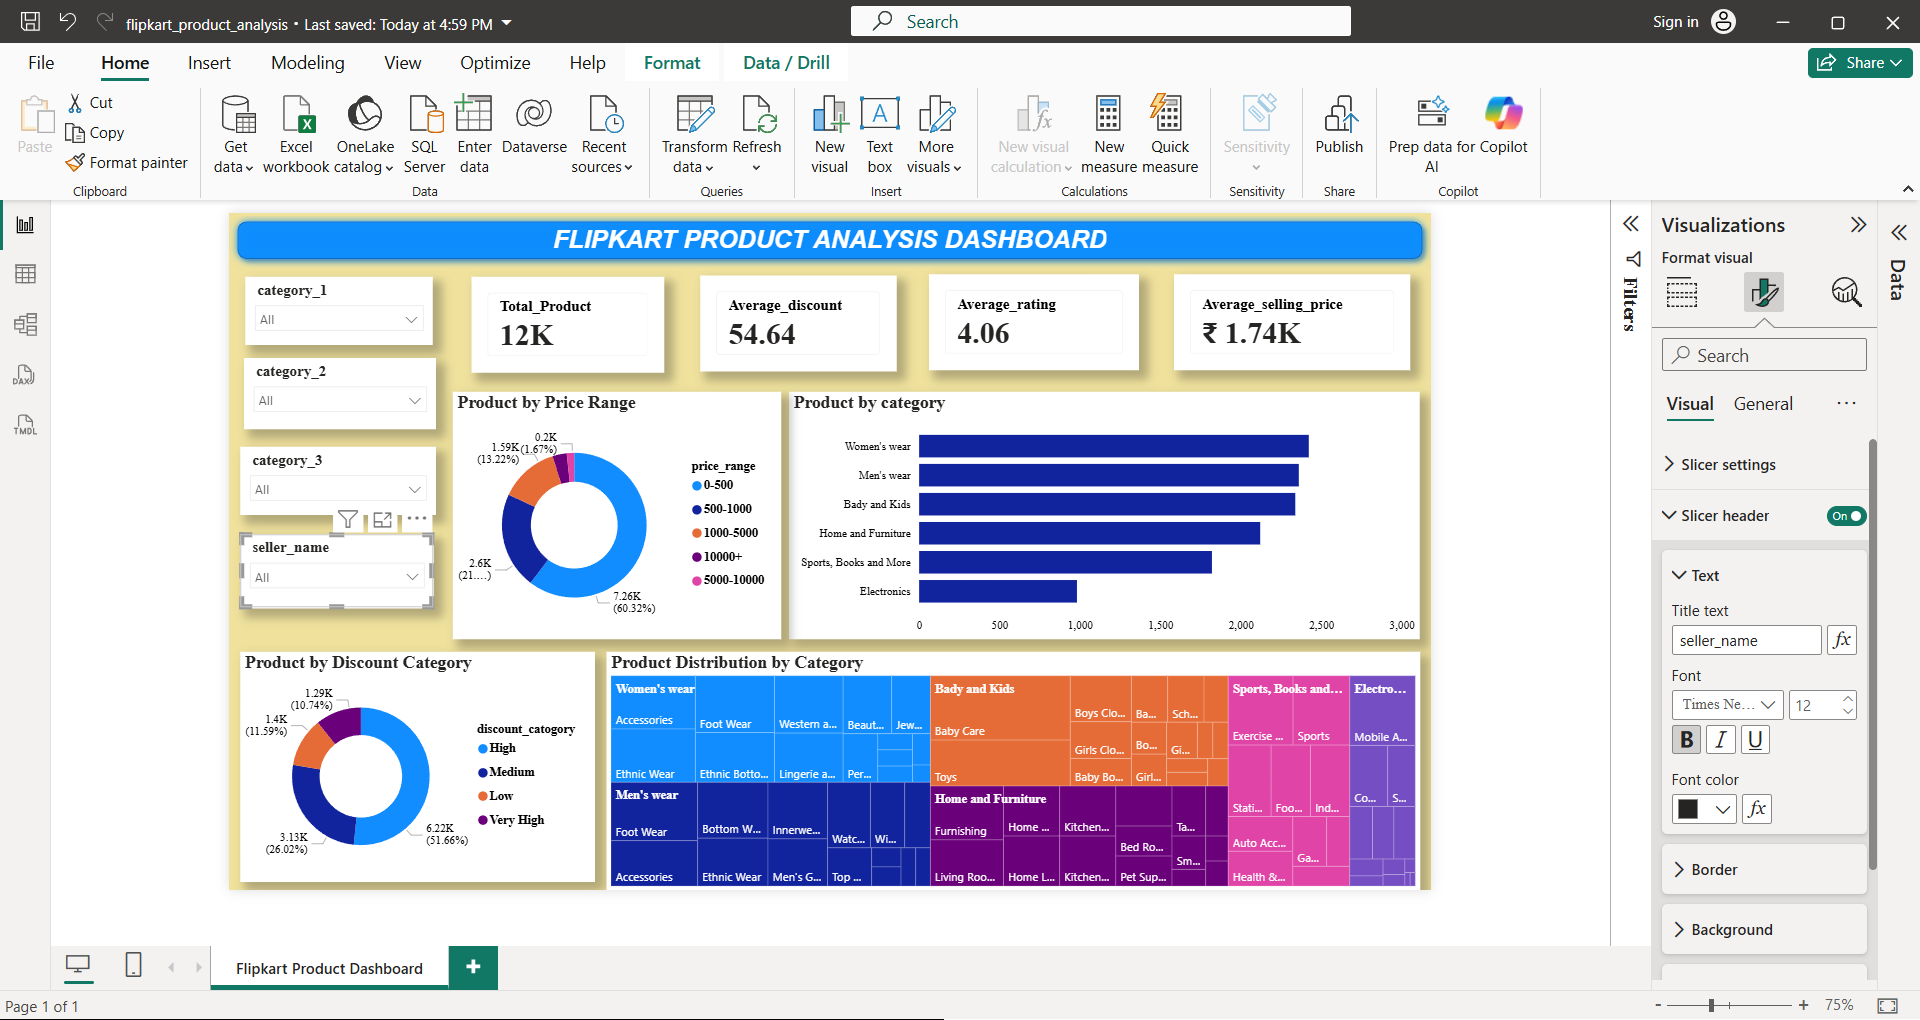

The dashboard page shown, as its layout file describes it:
{"tool":"powerbi","page":{"name":"Flipkart Product Dashboard","canvas":[1282,723],"ordinal":0},"visuals":[{"type":"shape","box":[0,0,1282,58],"z":0},{"type":"cardVisual","fields":{"Data":["dataset.Total_Product"]},"box":[250.6,66.7,204.9,102.5],"z":1000},{"type":"cardVisual","fields":{"Data":["dataset.Average_discount"]},"box":[471.6,67.9,209.9,102.5],"z":2000},{"type":"cardVisual","fields":{"Data":["dataset.Average_rating"]},"box":[713.6,66.7,223.5,102.5],"z":3000},{"type":"cardVisual","fields":{"Data":["dataset.Average_selling_price"]},"box":[974.1,66.7,265.4,102.5],"z":4000},{"type":"slicer","fields":{"Values":["dataset.category_1"]},"box":[17.9,67.9,200,73.1],"z":5000},{"type":"slicer","fields":{"Values":["dataset.category_2"]},"box":[15.4,155.1,205.1,75.6],"z":6000},{"type":"slicer","fields":{"Values":["dataset.category_3"]},"box":[11.5,248.7,209,73.1],"z":7000},{"type":"slicer","fields":{"Values":["dataset.seller_name"]},"box":[11.5,342.3,206.4,79.5],"z":8000},{"type":"clusteredBarChart","title":"Product by category","fields":{"Category":["dataset.category_1"],"Y":["CountNonNull(dataset.title)"]},"box":[597.5,190.1,672.8,264.2],"z":9000},{"type":"donutChart","title":"Product by Price Range","fields":{"Category":["dataset.price_range"],"Y":["CountNonNull(dataset.title)"]},"box":[238.3,190.1,350.6,264.2],"z":10000},{"type":"donutChart","title":"Product by Discount Category","fields":{"Category":["dataset.discount_cat"],"Y":["CountNonNull(dataset.title)"]},"box":[0,467.9,391,255.1],"z":11000},{"type":"treemap","title":"Product Distribution by Category","fields":{"Group":["dataset.category_1"],"Values":["CountNonNull(dataset.title)"],"Details":["dataset.category_2"]},"box":[402.6,467.9,867.9,255.1],"z":12000}]}

Visuals, with their boxes on the page's 1282x723 design canvas (x1, y1, x2, y2). These are canvas units, not pixel positions in the 1920x1020 screenshot, which may show the page scaled, cropped or inside an application window:
shape: pyautogui.locateOnScreen(0, 0, 1282, 58)
cardVisual - dataset.Total_Product: pyautogui.locateOnScreen(251, 67, 456, 169)
cardVisual - dataset.Average_discount: pyautogui.locateOnScreen(472, 68, 682, 170)
cardVisual - dataset.Average_rating: pyautogui.locateOnScreen(714, 67, 937, 169)
cardVisual - dataset.Average_selling_price: pyautogui.locateOnScreen(974, 67, 1240, 169)
slicer - dataset.category_1: pyautogui.locateOnScreen(18, 68, 218, 141)
slicer - dataset.category_2: pyautogui.locateOnScreen(15, 155, 220, 231)
slicer - dataset.category_3: pyautogui.locateOnScreen(12, 249, 220, 322)
slicer - dataset.seller_name: pyautogui.locateOnScreen(12, 342, 218, 422)
"Product by category" clusteredBarChart: pyautogui.locateOnScreen(598, 190, 1270, 454)
"Product by Price Range" donutChart: pyautogui.locateOnScreen(238, 190, 589, 454)
"Product by Discount Category" donutChart: pyautogui.locateOnScreen(0, 468, 391, 723)
"Product Distribution by Category" treemap: pyautogui.locateOnScreen(403, 468, 1270, 723)
